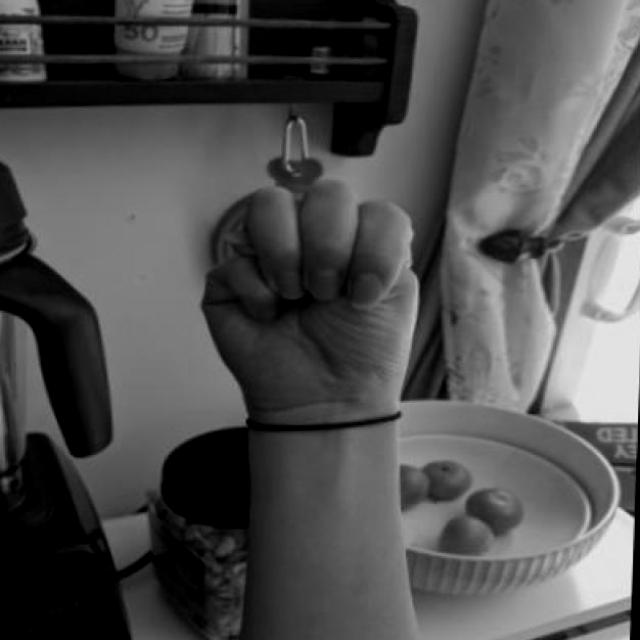M: (196, 161, 449, 435)
